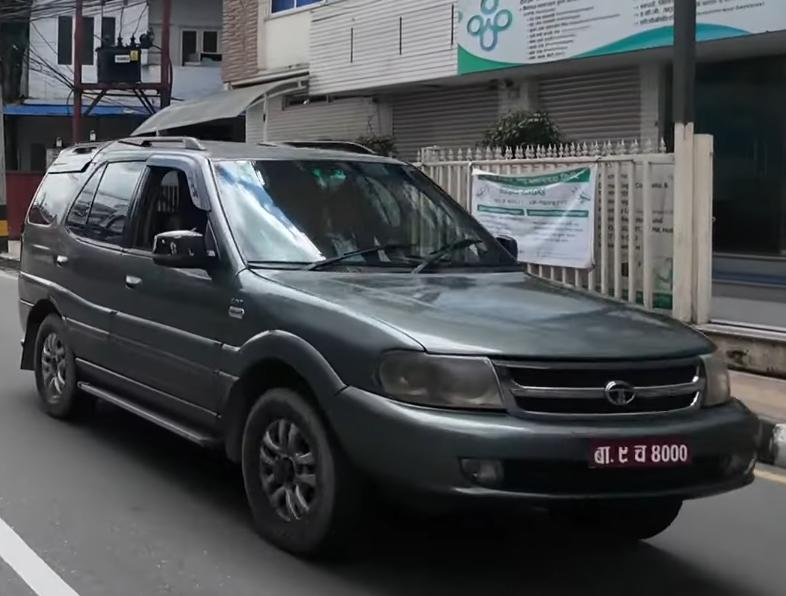car: (15, 123, 767, 555)
